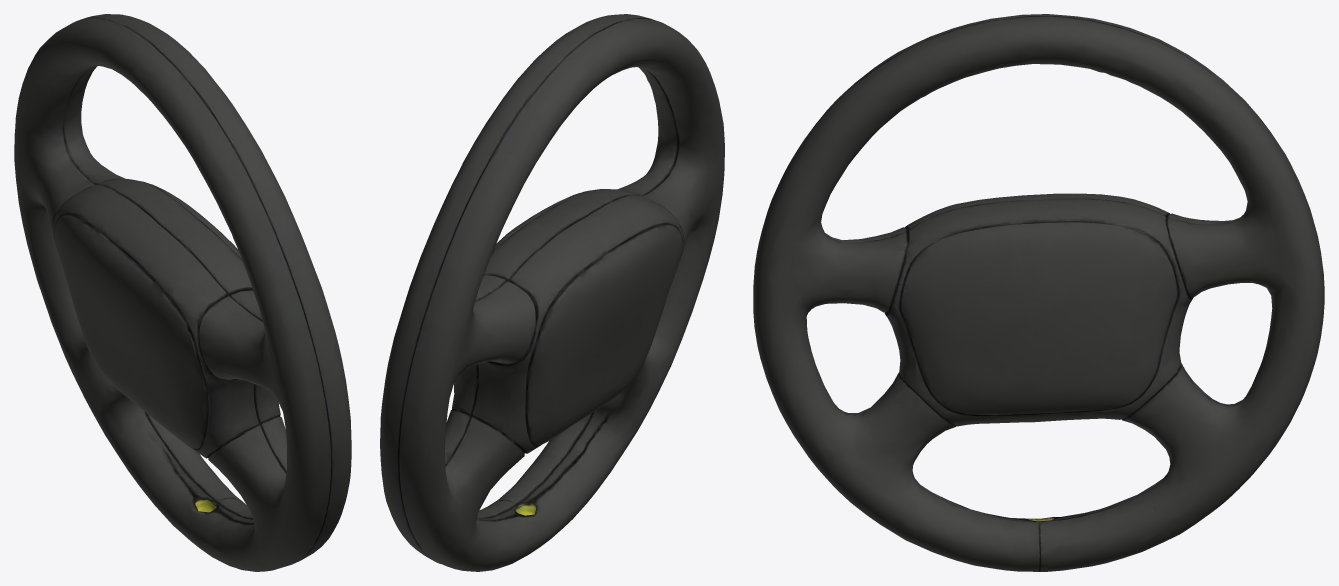
Rendered from steering-wheel.glb.
The picture shows the model from 3 angles, left to right: view 1: azimuth 30°, elevation 25°; view 2: azimuth 150°, elevation 25°; view 3: azimuth 270°, elevation 25°; orthographic projection. The views are drawn at different scales.
Visible parts, largest first — view 1: tripo_node_be97e2f9-a2fc-4bf2-89c6-d983c1f4b501; view 2: tripo_node_be97e2f9-a2fc-4bf2-89c6-d983c1f4b501; view 3: tripo_node_be97e2f9-a2fc-4bf2-89c6-d983c1f4b501.
Part boxes in pixels (x1,y1,x2,y2): tripo_node_be97e2f9-a2fc-4bf2-89c6-d983c1f4b501: (14,14,351,571); tripo_node_be97e2f9-a2fc-4bf2-89c6-d983c1f4b501: (380,14,724,571); tripo_node_be97e2f9-a2fc-4bf2-89c6-d983c1f4b501: (753,14,1324,571).
Size of the model in its own units: 0.2833 by 0.9994 by 1.
Materials: 1 (1 with a texture image).
